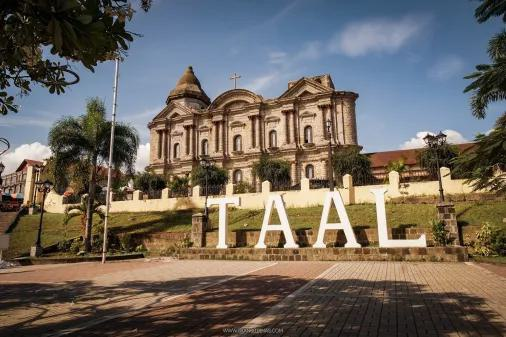taal_basilica_church_taal_batangas: (146, 61, 364, 192)
